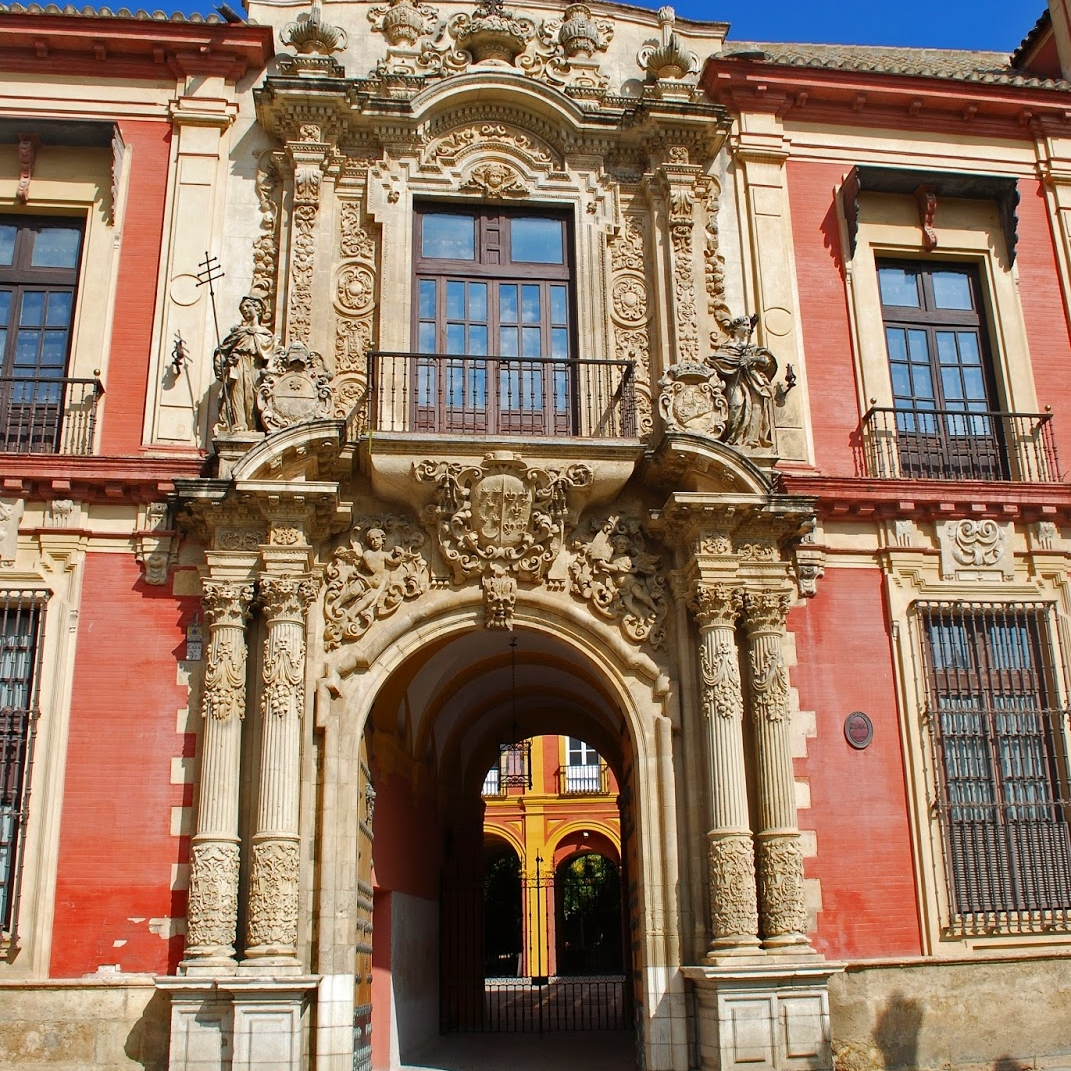arco-medio-punto: (342, 616, 656, 786)
fronton-partido: (230, 418, 785, 528)
vano-adintelado: (892, 570, 1071, 938), (391, 185, 603, 441), (855, 229, 1037, 487)
